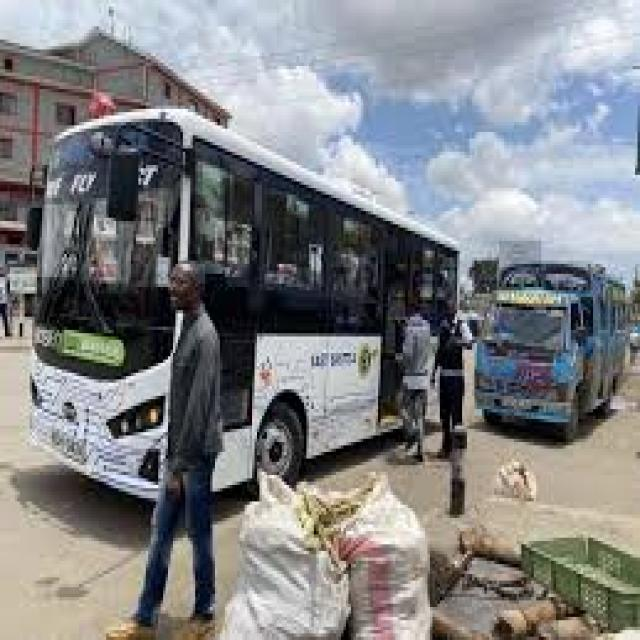bus: (16, 76, 476, 516)
